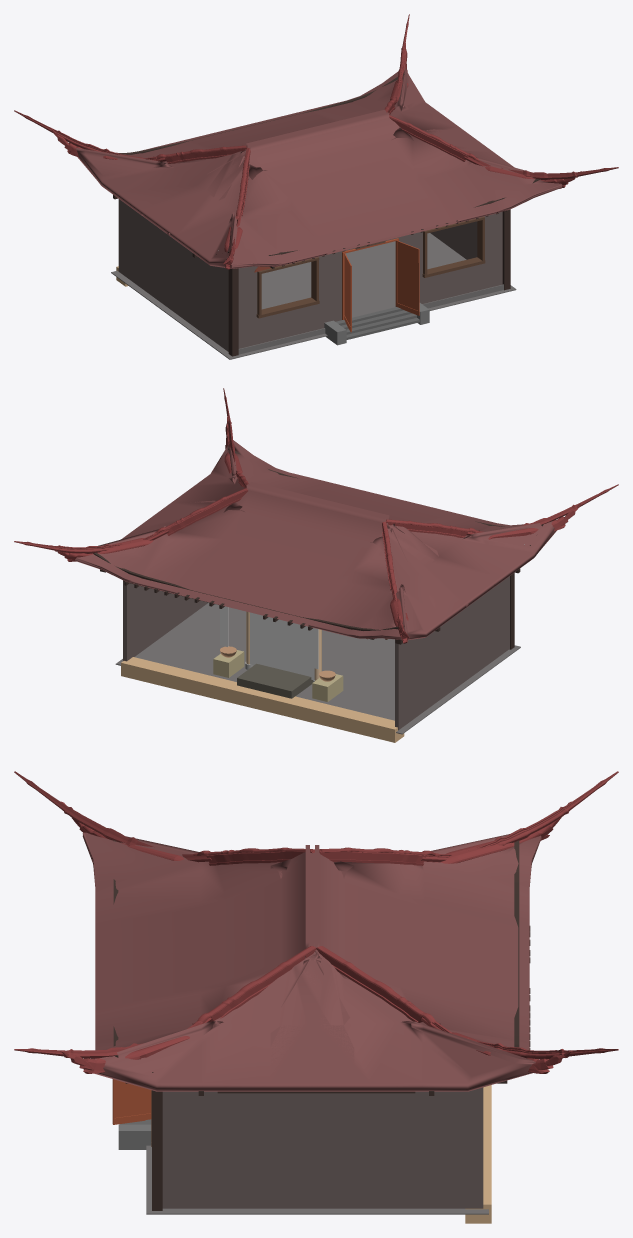
File: JapaneseTemple.fbx
3 views of the same model, one above another, from view 1: azimuth 30°, elevation 25°; view 2: azimuth 150°, elevation 25°; view 3: azimuth 270°, elevation 25° (orthographic). The views are drawn at different scales.
Parts seen in each view (by area): view 1: polySurface4, polySurface3, polySurface1, polySurface2; view 2: polySurface4, polySurface1, polySurface2, Box17, Box3639; view 3: polySurface4, polySurface2.
Part boxes in pixels (<box>): polySurface4: <box>14,14,618,359</box>; polySurface3: <box>238,212,502,348</box>; polySurface1: <box>118,199,228,351</box>; polySurface2: <box>430,221,477,259</box>; polySurface4: <box>14,388,618,742</box>; polySurface1: <box>395,576,509,730</box>; polySurface2: <box>123,580,208,661</box>; Box17: <box>250,612,314,679</box>; Box3639: <box>220,606,318,669</box>; polySurface4: <box>14,771,618,1223</box>; polySurface2: <box>162,1087,483,1208</box>.
Size of the model in its own units: 54.61 by 21.54 by 50.17.
